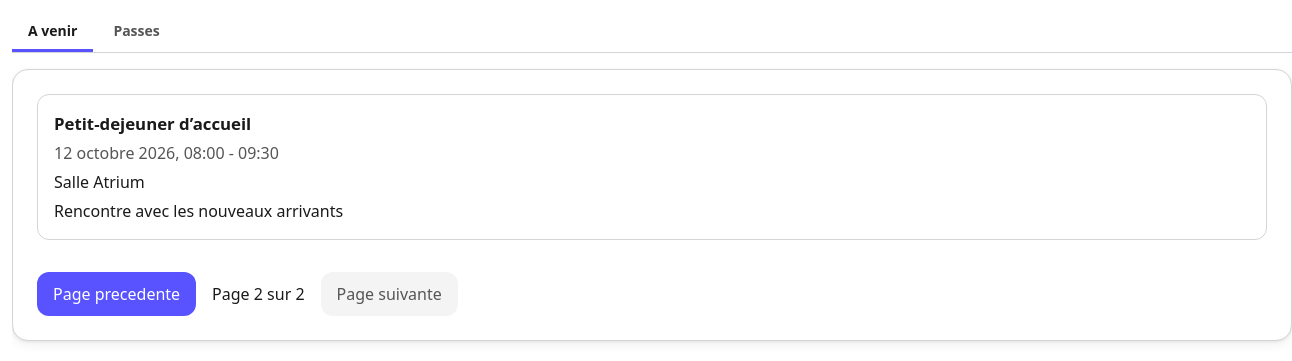
it: les evenements a l’ecran › change d’onglet relance l’appel avec `classement=passes` ET reinitialise la page
expect the text "Page 2 sur 2" is shown: met, box [212,282,305,307]
Press the mouse on the tab "Passes" at coordinates (137, 32), box [97,12,176,52]
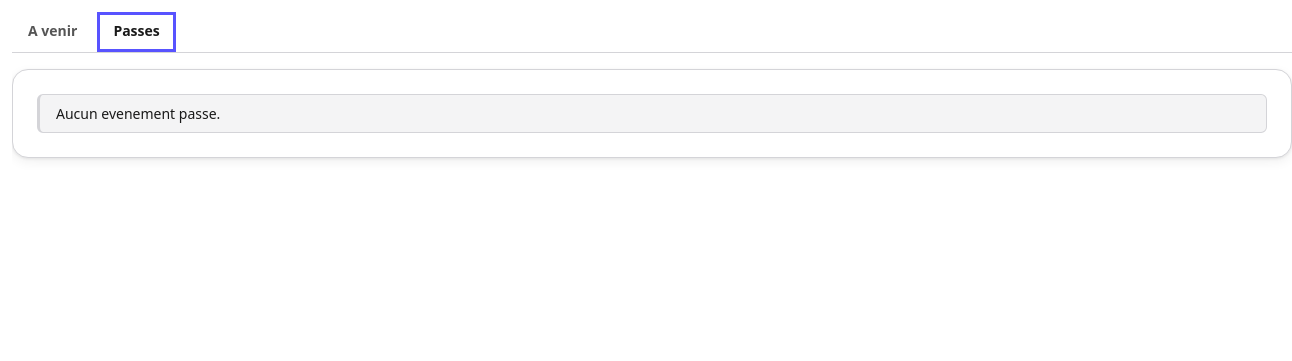
expect the text "Aucun evenement passe." is shown: met, box [37,94,1267,133]
